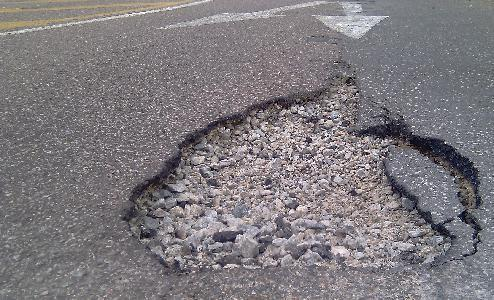Pothole: (92, 50, 485, 290)
